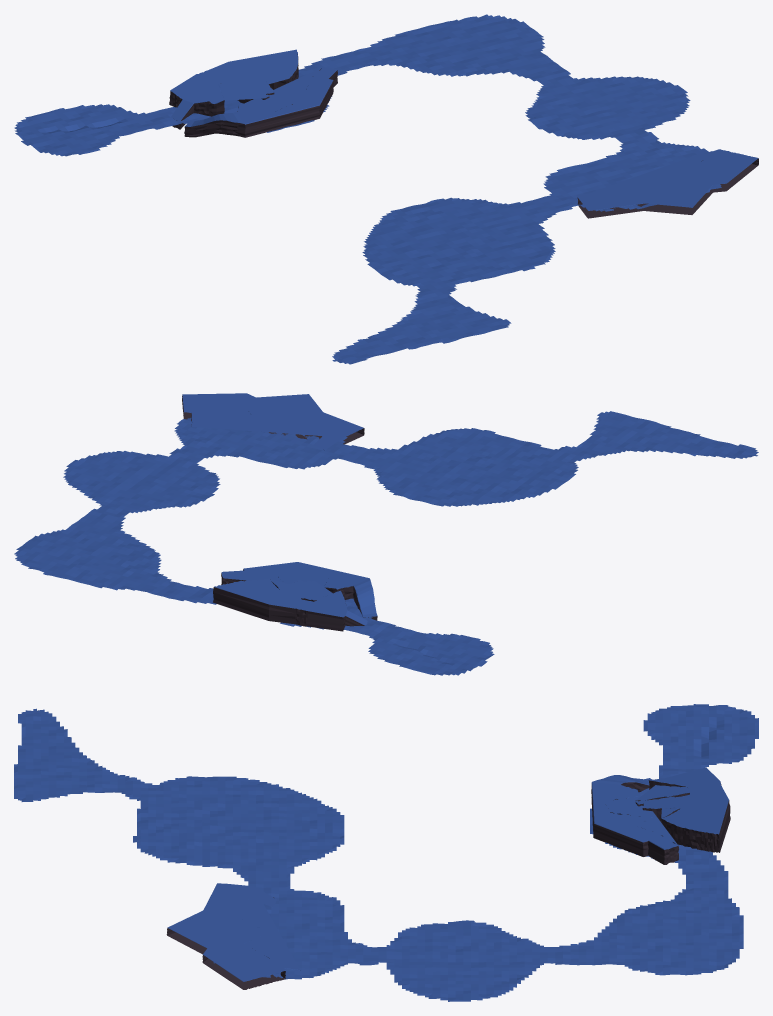
File: level2.fbx
3 renders of one model, top to bottom at view 1: azimuth 30°, elevation 25°; view 2: azimuth 150°, elevation 25°; view 3: azimuth 270°, elevation 25°, orthographic. The views are drawn at different scales.
Parts seen in each view (by area): view 1: Plane, Plane.003, Plane.001, Plane.002; view 2: Plane, Plane.003, Plane.001, Plane.002; view 3: Plane, Plane.003, Plane.001, Plane.002.
Part boxes in pixels (<box>): Plane: <box>14,14,721,364</box>; Plane.003: <box>576,149,758,218</box>; Plane.001: <box>169,49,298,129</box>; Plane.002: <box>184,67,337,137</box>; Plane: <box>14,411,758,675</box>; Plane.003: <box>182,393,364,450</box>; Plane.001: <box>213,578,367,631</box>; Plane.002: <box>221,562,377,620</box>; Plane: <box>14,704,758,1001</box>; Plane.003: <box>166,883,300,989</box>; Plane.001: <box>635,767,730,852</box>; Plane.002: <box>591,775,678,864</box>.
Bounding box in the file's own units: 92142 × 4761 × 97401.
